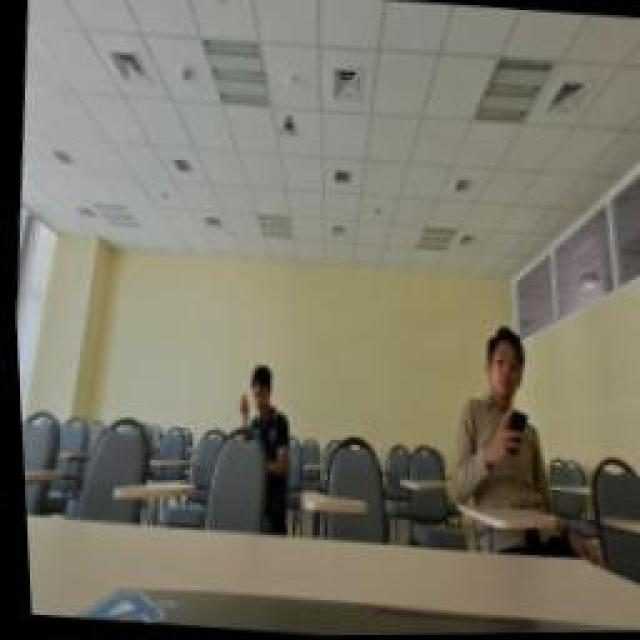phone: (435, 313, 557, 515)
study: (222, 350, 288, 468)
